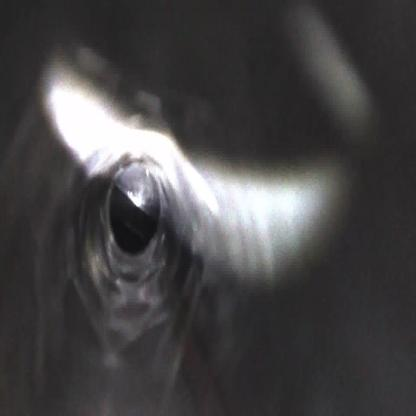Crack: (56, 98, 210, 330)
